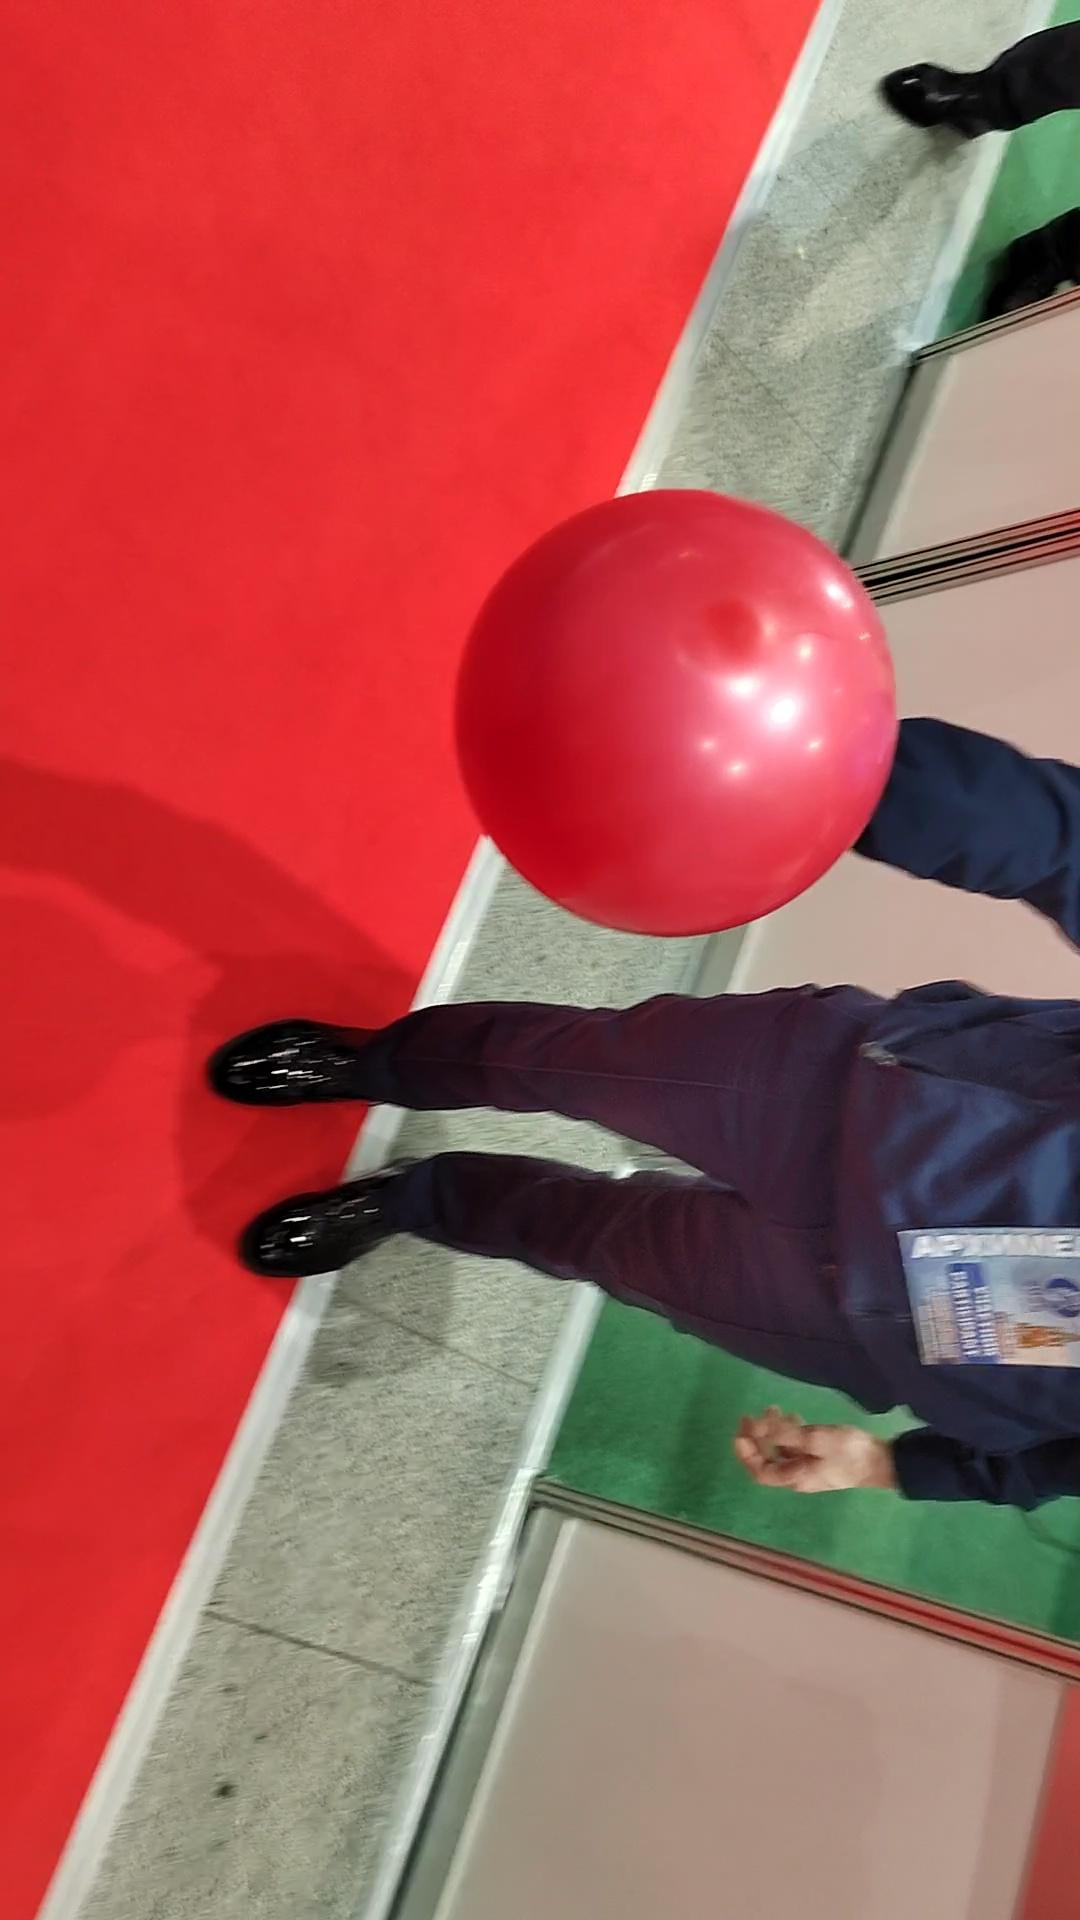red: (443, 492, 894, 947)
